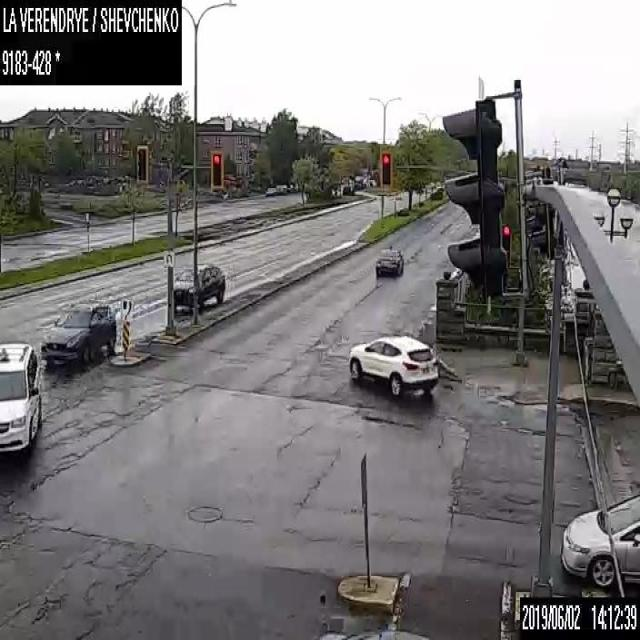vehicle: (559, 493, 639, 591), (347, 333, 438, 398), (40, 301, 117, 364), (0, 339, 39, 453), (171, 262, 224, 310), (374, 246, 402, 278), (265, 187, 276, 196)
